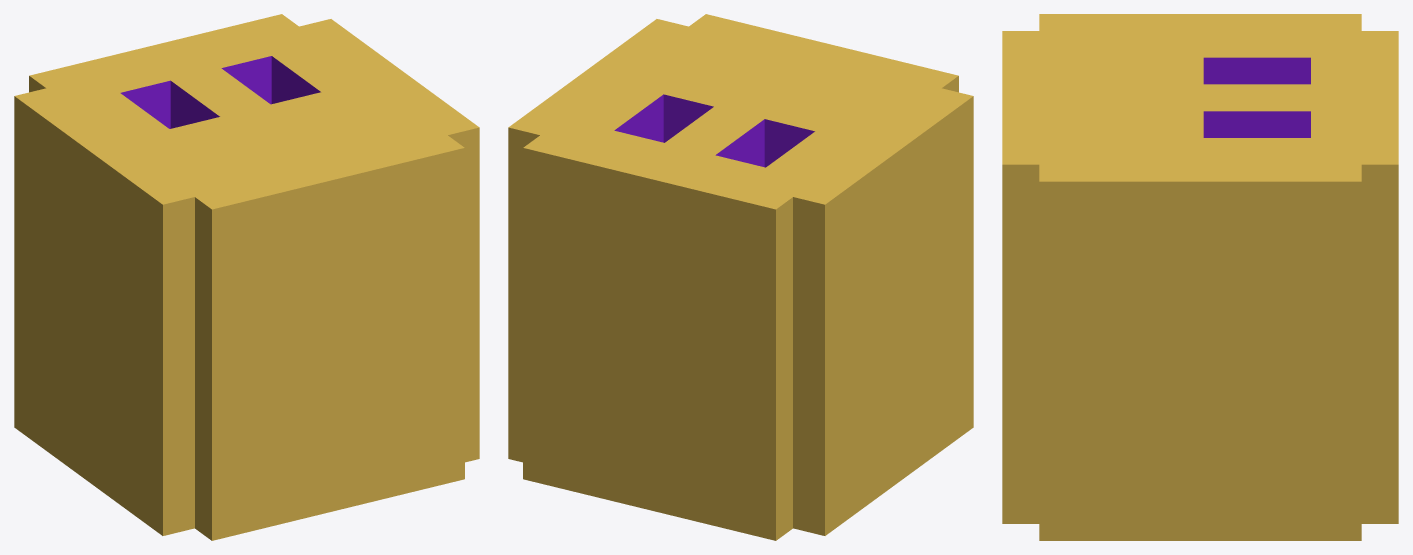
The picture shows the model from 3 angles, left to right: view 1: azimuth 30°, elevation 25°; view 2: azimuth 150°, elevation 25°; view 3: azimuth 270°, elevation 25°; orthographic projection. The views are drawn at different scales.
Visible parts, largest first — view 1: Cube; view 2: Cube; view 3: Cube.
Part boxes in pixels (x1,y1,x2,y2): Cube: (14, 14, 479, 540); Cube: (508, 14, 973, 540); Cube: (1002, 14, 1398, 540).
Bounding box in the file's own units: 200 × 200 × 200.
